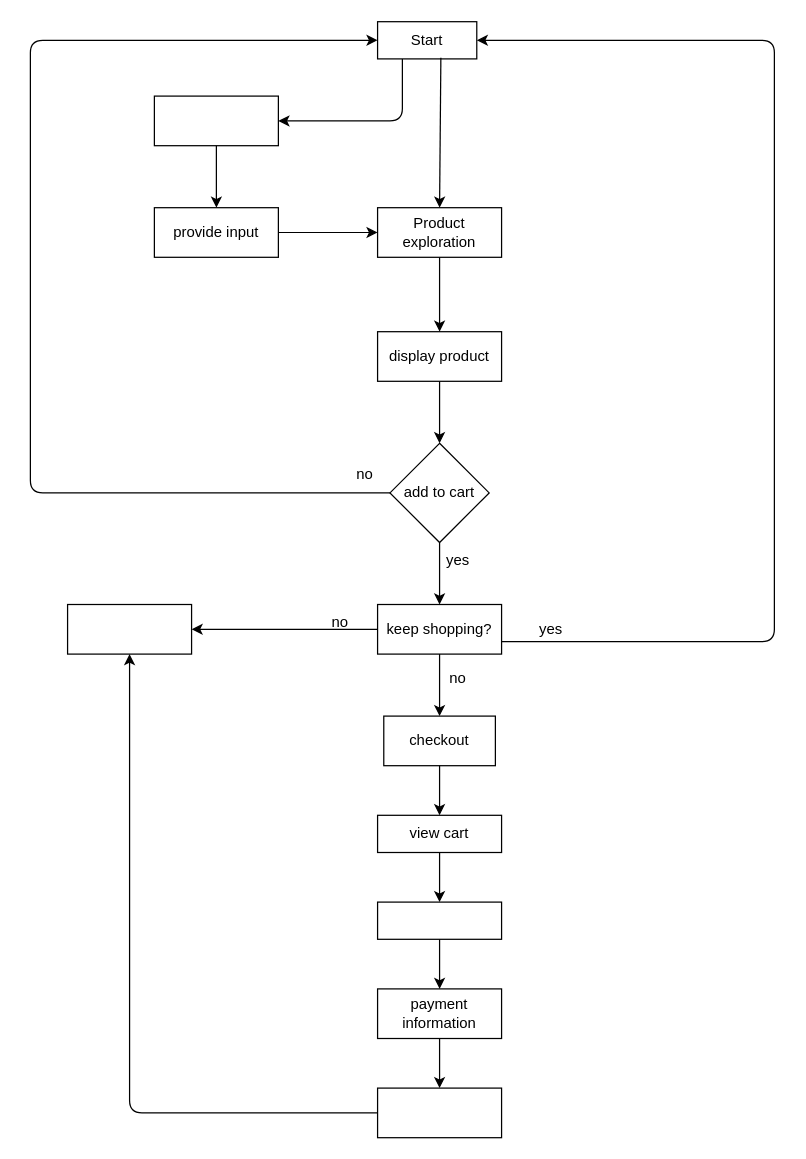
Image size: 806x1159. Some labels were removed from this diagram. Here are the shapes that lost their labels. From the top down, the centre of each, then its label:
At pixel 215 120: "Search for Product".
At pixel 129 628: "leave site".
At pixel 439 920: "view payment".
At pixel 439 1112: "order confirmation".
